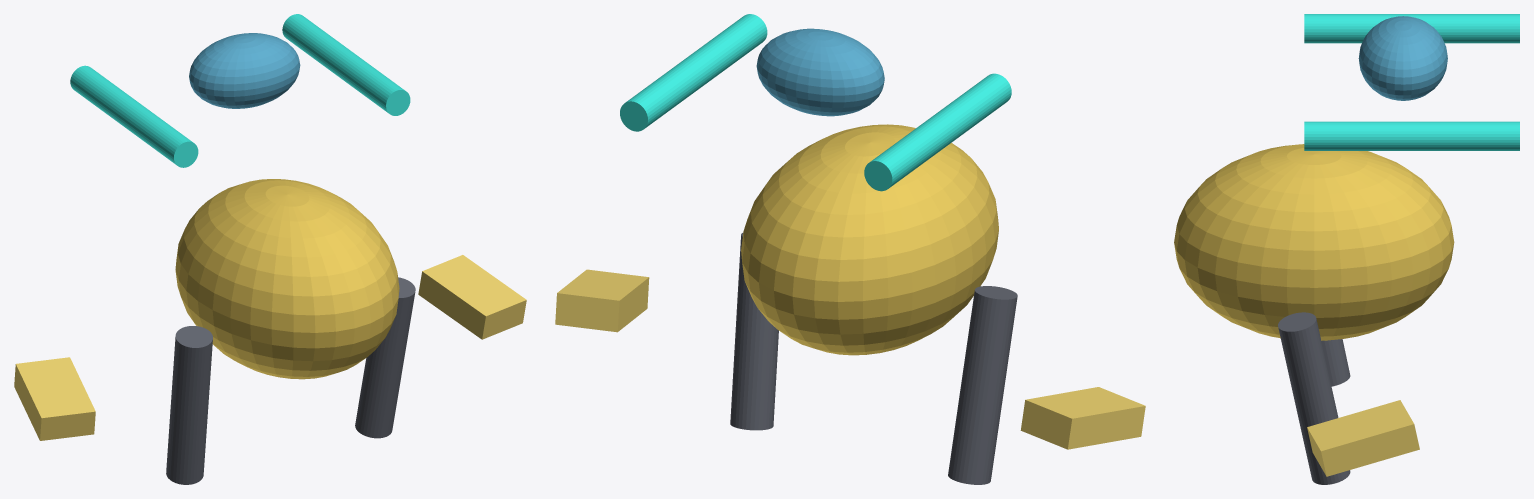
File: CO_AiravataWalker.fbx
3 renders of one model, left to right at view 1: azimuth 30°, elevation 25°; view 2: azimuth 150°, elevation 25°; view 3: azimuth 270°, elevation 25°, orthographic. The views are drawn at different scales.
Visible parts, largest first — view 1: Sphere, Sphere.001, Cylinder, Cube.001, Cube, Cylinder.001, Cylinder.002, Cylinder.003; view 2: Sphere, Sphere.001, Cylinder, Cube, Cylinder.001, Cylinder.002, Cylinder.003, Cube.001; view 3: Sphere, Cylinder.003, Sphere.001, Cube.001, Cylinder.001, Cylinder.002, Cylinder.
Part boxes in pixels (x1=…): Sphere: x1=175, y1=179, x2=399, y2=379; Sphere.001: x1=189, y1=33, x2=300, y2=108; Cylinder: x1=166, y1=326, x2=212, y2=484; Cube.001: x1=418, y1=255, x2=526, y2=339; Cube: x1=14, y1=357, x2=95, y2=440; Cylinder.001: x1=355, y1=277, x2=415, y2=438; Cylinder.002: x1=70, y1=65, x2=198, y2=167; Cylinder.003: x1=282, y1=14, x2=410, y2=115; Sphere: x1=741, y1=124, x2=998, y2=355; Sphere.001: x1=756, y1=28, x2=884, y2=116; Cylinder: x1=948, y1=286, x2=1017, y2=484; Cube: x1=1020, y1=387, x2=1145, y2=449; Cylinder.001: x1=730, y1=233, x2=778, y2=430; Cylinder.002: x1=864, y1=73, x2=1011, y2=191; Cylinder.003: x1=620, y1=14, x2=767, y2=131; Cube.001: x1=555, y1=269, x2=649, y2=332; Sphere: x1=1174, y1=144, x2=1454, y2=340; Cylinder.003: x1=1304, y1=121, x2=1519, y2=150; Sphere.001: x1=1358, y1=16, x2=1447, y2=100; Cube.001: x1=1307, y1=400, x2=1419, y2=476; Cylinder.001: x1=1278, y1=312, x2=1350, y2=484; Cylinder.002: x1=1304, y1=14, x2=1519, y2=43; Cylinder: x1=1321, y1=339, x2=1350, y2=386.
Size of the model in its own units: 595 by 457 by 353.
